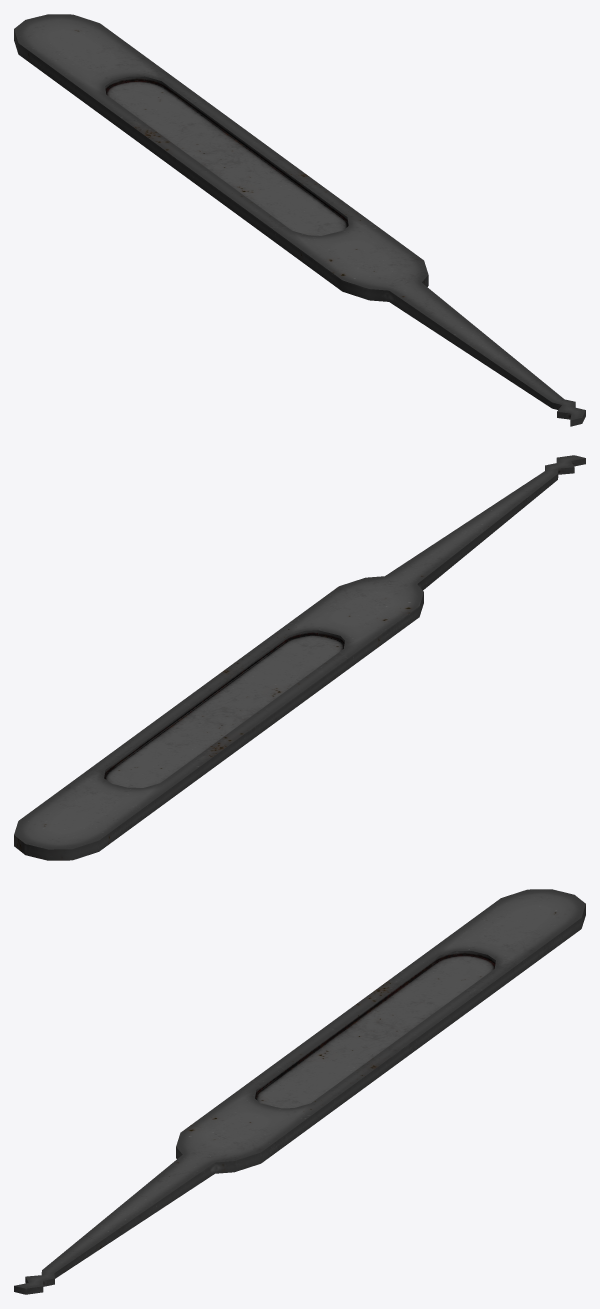
Rendered from Lockpick_03.glb.
3 renders of one model, top to bottom at view 1: azimuth 30°, elevation 25°; view 2: azimuth 150°, elevation 25°; view 3: azimuth 330°, elevation 25°, orthographic.
Parts seen in each view (by area): view 1: Cube_011; view 2: Cube_011; view 3: Cube_011.
Boxes of the visible parts, x1=… form: Cube_011: x1=14, y1=14, x2=585, y2=426; Cube_011: x1=14, y1=455, x2=585, y2=860; Cube_011: x1=14, y1=889, x2=585, y2=1294.
Bounding box in the file's own units: 0.0348 × 0.00463 × 0.402.
Materials: 1 (1 with a texture image).
